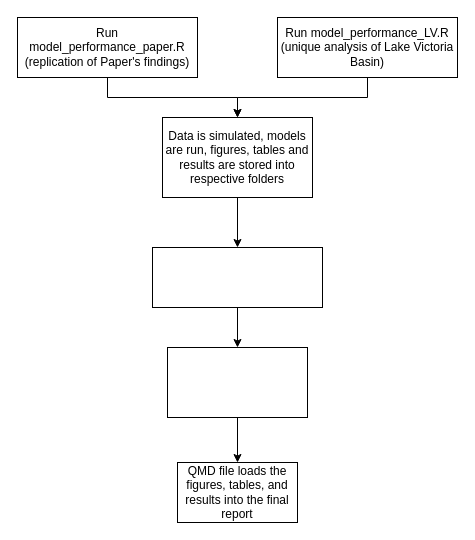
Image size: 475x540. Some labels were removed from this diagram. The shapes that lost their labels are listed below. From the top down, each one's box as (x1, y1, x2, y2) in pixels, then its label:
(152, 246, 322, 308): Run analyze_simulation_results.R
(166, 346, 308, 418): Model results are extracted and saved into respective folders
